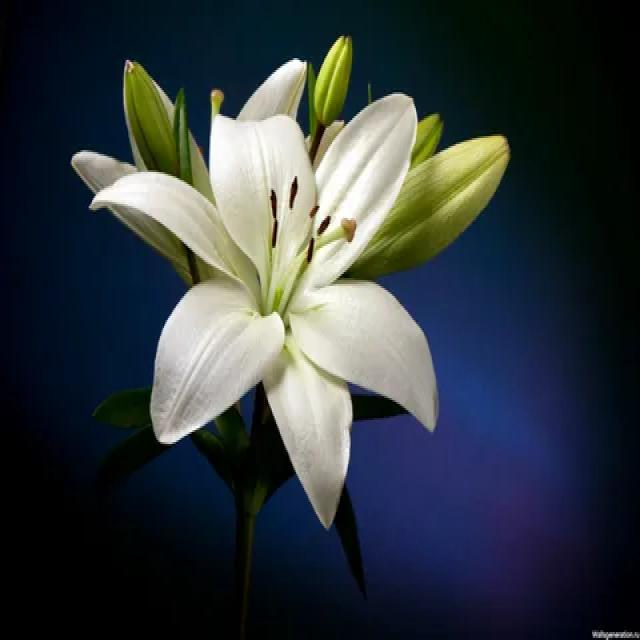lily: (90, 79, 443, 526)
